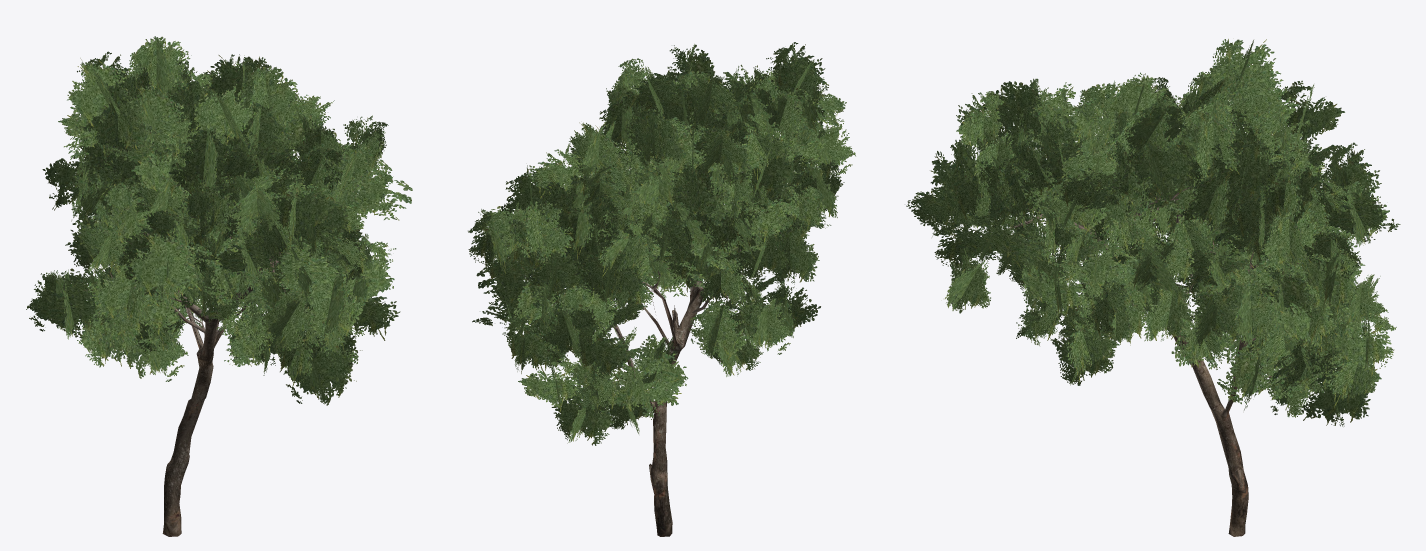
The model's file is tree-small-02-mobile.glb.
3 views of the same model, side by side, from view 1: azimuth 30°, elevation 25°; view 2: azimuth 150°, elevation 25°; view 3: azimuth 270°, elevation 25° (orthographic). The views are drawn at different scales.
Visible parts, largest first — view 1: tree_small_02_LOD0; view 2: tree_small_02_LOD0; view 3: tree_small_02_LOD0.
Part boxes in pixels (<box>): tree_small_02_LOD0: <box>26,36,412,536</box>; tree_small_02_LOD0: <box>468,42,855,536</box>; tree_small_02_LOD0: <box>906,39,1400,536</box>.
Bounding box in the file's own units: 3.59 × 4.95 × 4.9.
Materials: 3 (3 with a texture image).
